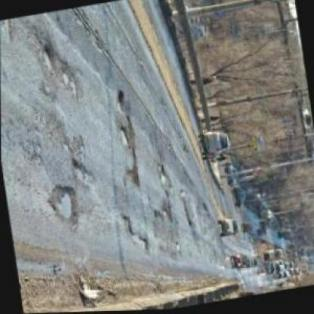Hueco: (41, 38, 82, 105), (46, 182, 82, 232), (120, 210, 150, 256), (69, 157, 90, 185), (126, 116, 140, 155), (154, 162, 173, 190), (124, 165, 142, 190), (159, 203, 175, 225), (119, 125, 132, 152), (116, 91, 128, 107), (175, 242, 184, 256), (179, 189, 187, 201)
